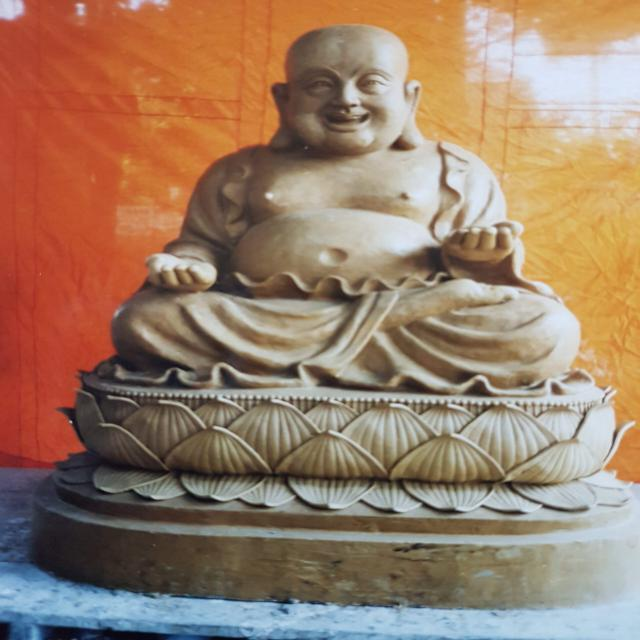Smiling Buddha: (180, 24, 494, 344)
